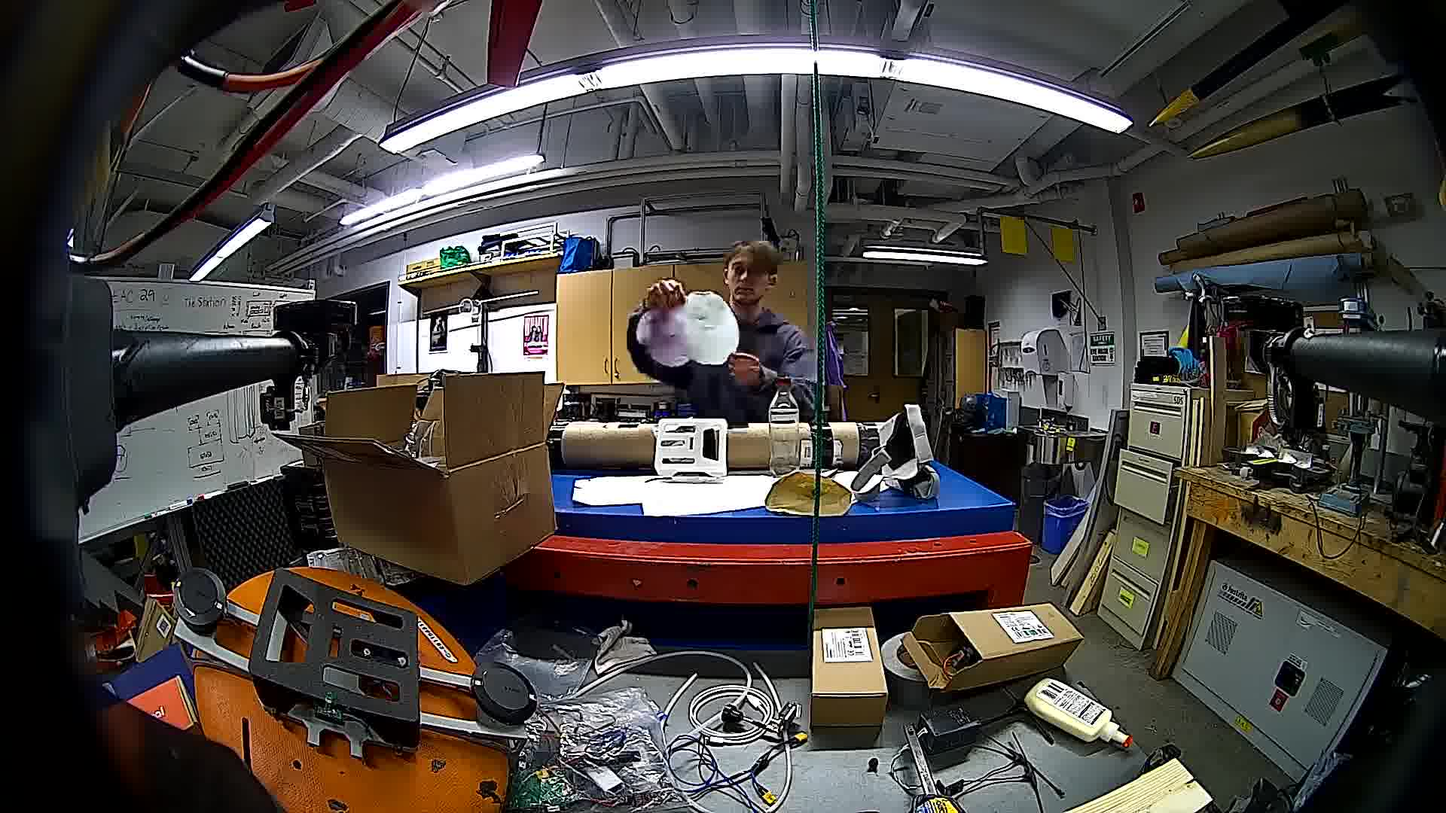Target: (679, 286, 740, 365)
